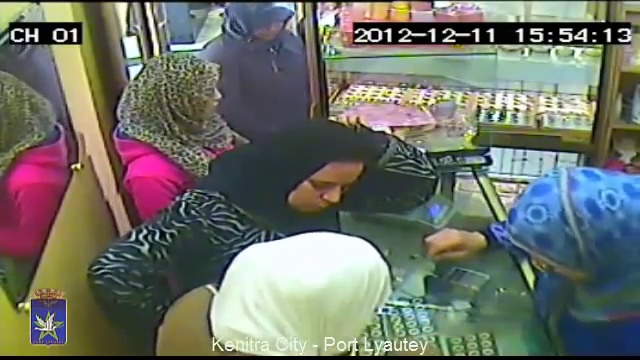face: (284, 158, 352, 214)
